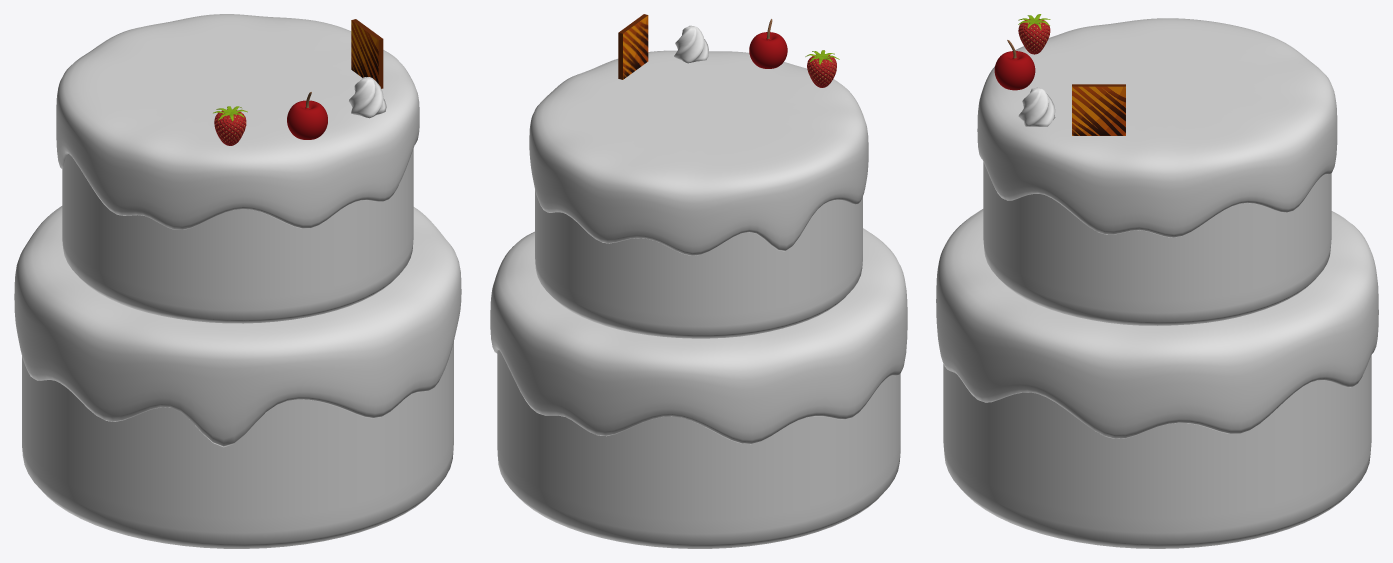
The model's file is cake.fbx.
The picture shows the model from 3 angles, left to right: view 1: azimuth 30°, elevation 25°; view 2: azimuth 150°, elevation 25°; view 3: azimuth 270°, elevation 25°; orthographic projection. The views are drawn at different scales.
Parts seen in each view (by area): view 1: Icing.001, Cake, Icing, Cake.001, Cube, Sphere, Star.002, strawberry; view 2: Icing.001, Icing, Cake, Cake.001, Cube, Sphere, Star.002, strawberry; view 3: Icing.001, Cake, Icing, Cake.001, Cube, Sphere, Star.002, strawberry.
Boxes of the visible parts, x1,y1,x2,y2 form: Icing.001: (56,14,419,229); Cake: (22,341,453,548); Icing: (14,206,461,447); Cake.001: (62,148,413,323); Cube: (351,19,383,88); Sphere: (287,92,327,139); Star.002: (349,77,386,118); strawberry: (213,106,247,145); Icing.001: (529,50,868,255); Icing: (490,228,907,444); Cake: (497,350,900,548); Cake.001: (535,190,862,338); Cube: (618,14,648,79); Sphere: (749,19,787,68); Star.002: (674,25,708,63); strawberry: (805,50,839,87); Icing.001: (977,18,1337,237); Cake: (943,355,1371,548); Icing: (936,209,1378,438); Cake.001: (983,162,1331,325); Cube: (1072,84,1125,135); Sphere: (994,40,1035,90); Star.002: (1018,87,1055,126); strawberry: (1018,14,1050,54).
Bounding box in the file's own units: 206 × 219 × 206.
